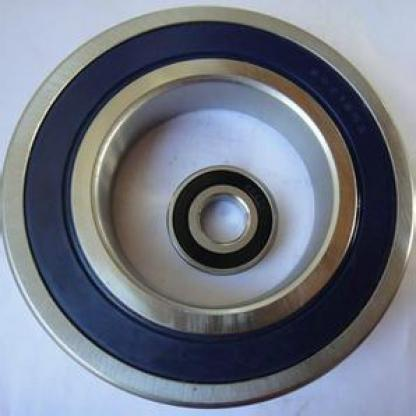FOD: (0, 0, 415, 412)
